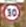limite 30: (1, 2, 21, 22)
